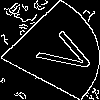V: (25, 24, 100, 79)
